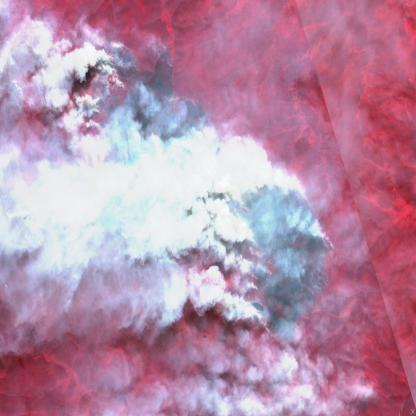fire: (82, 46, 226, 249), (234, 177, 341, 345)
